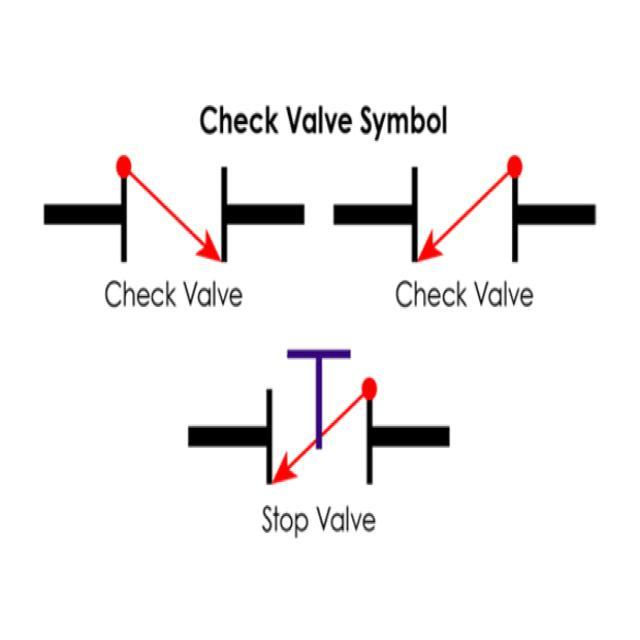Check Valve: (373, 144, 540, 276), (86, 141, 243, 271)
Stop Valve: (245, 334, 402, 500)
